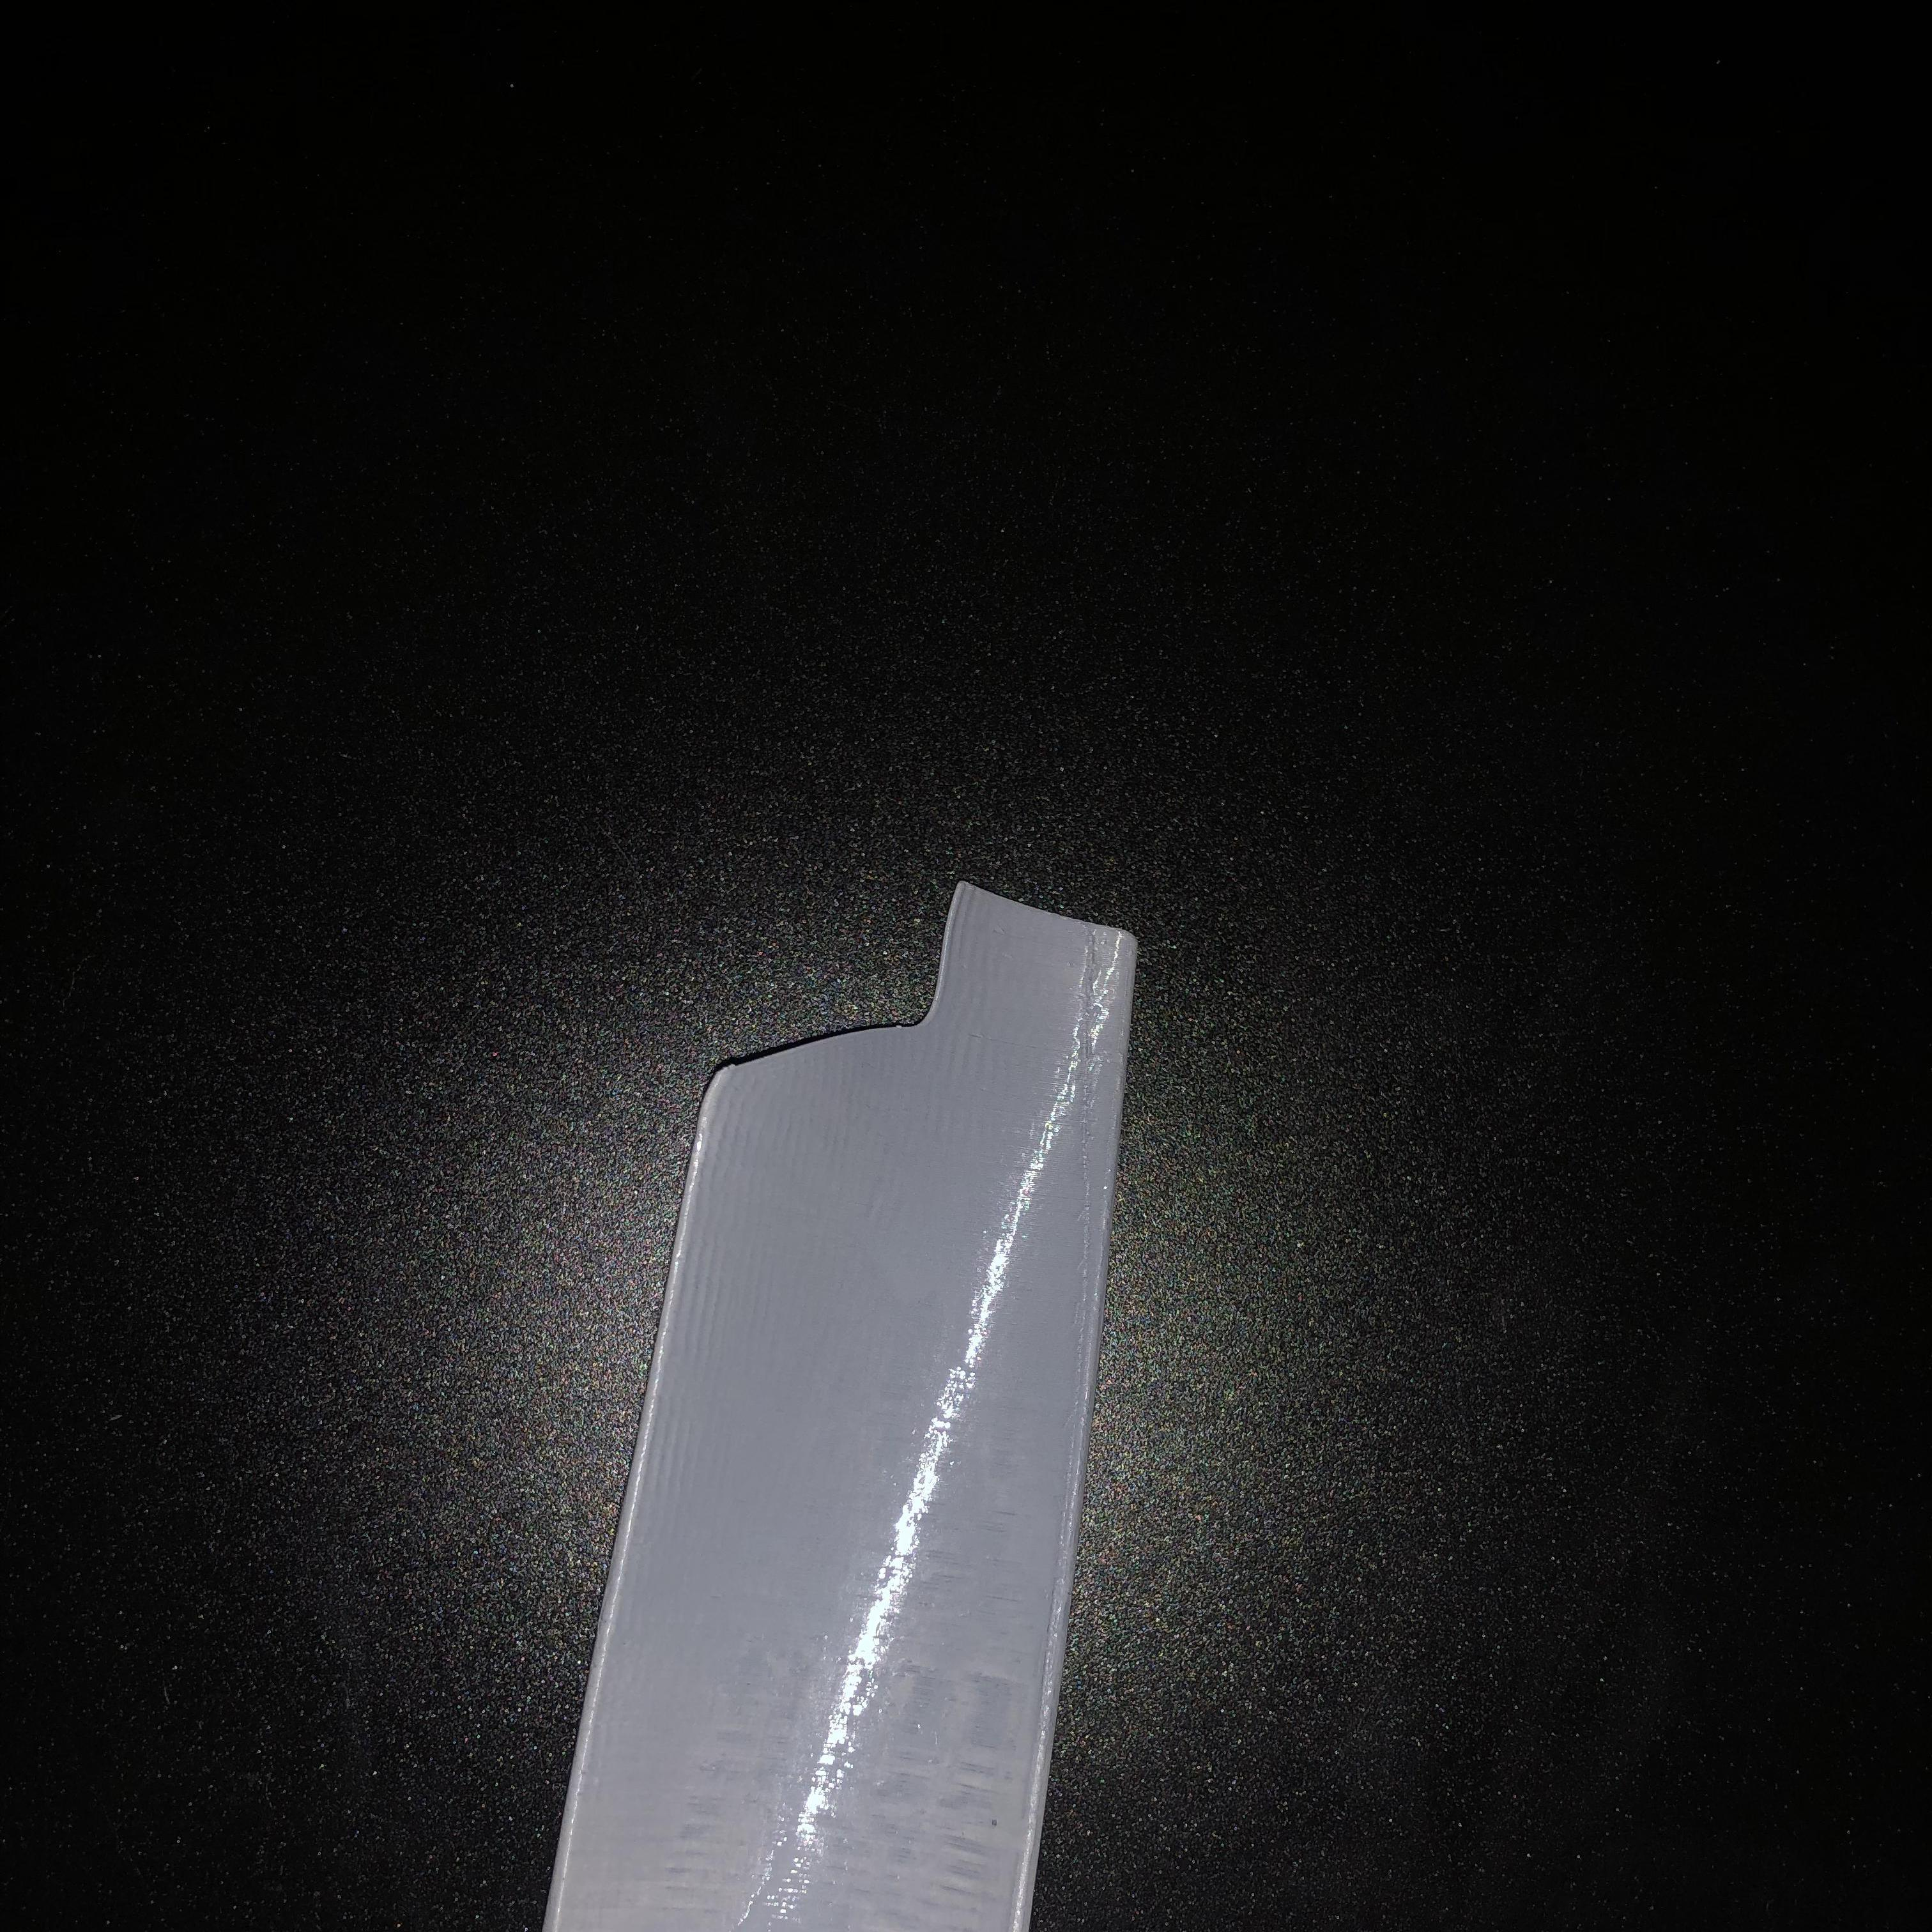fracture: (718, 909, 1016, 1076)
